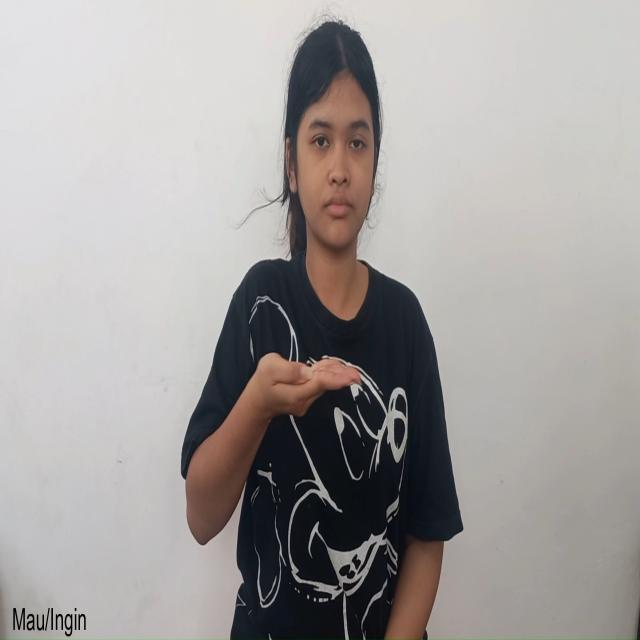Mau-Ingin -BISINDO-: (214, 336, 375, 462)
